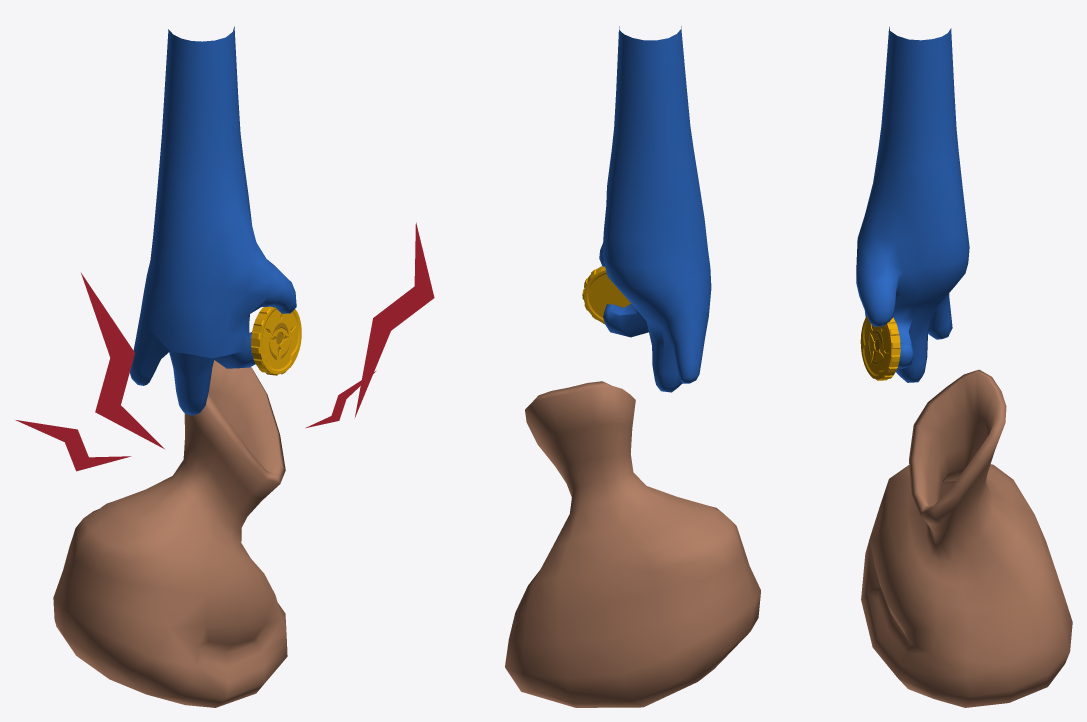
File: assasine.glb
The picture shows the model from 3 angles, left to right: view 1: azimuth 30°, elevation 25°; view 2: azimuth 150°, elevation 25°; view 3: azimuth 270°, elevation 25°; orthographic projection. The views are drawn at different scales.
Parts seen in each view (by area): view 1: Steal; view 2: Steal; view 3: Steal.
Boxes of the visible parts, x1,y1,x2,y2 form: Steal: (15,26,434,707); Steal: (505,26,760,707); Steal: (856,27,1072,707).
Size of the model in its own units: 1.81 by 3.14 by 0.9532.
2 materials, 2 textured.
